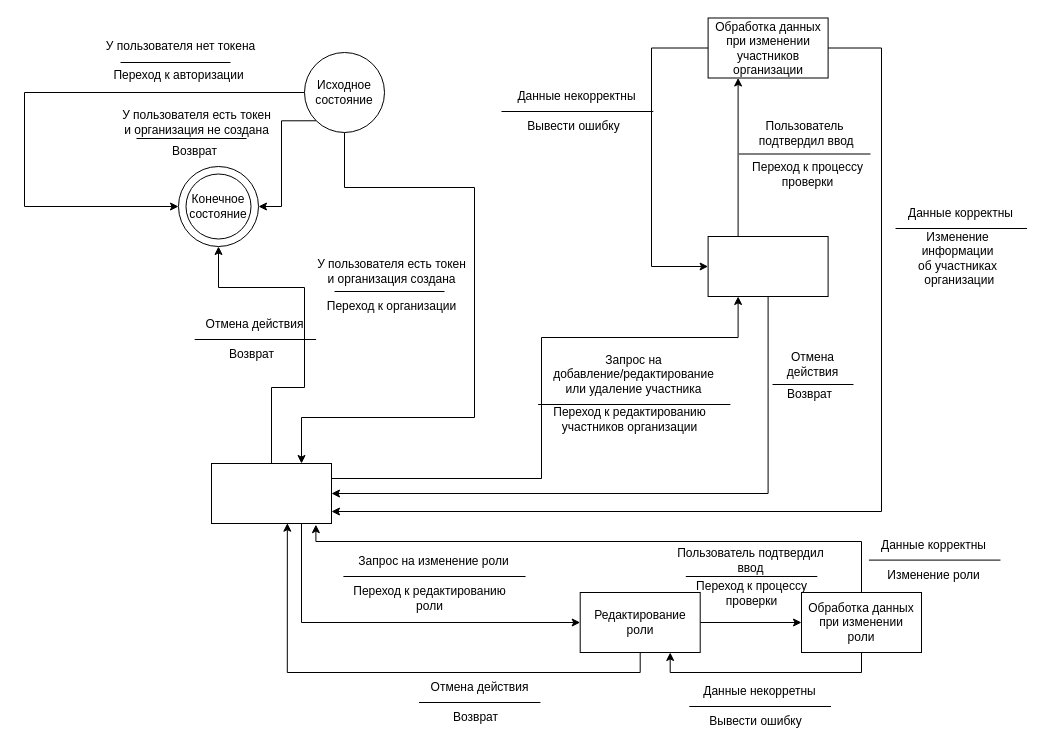
The diagram is 1046 pixels wide and 753 high, and some of its shapes have lost their labels. The centre of each missing label's shape, as x and y in pixels:
"Ожидание" belongs at [271,493].
"Редактирование участников организации" belongs at [767,266].
